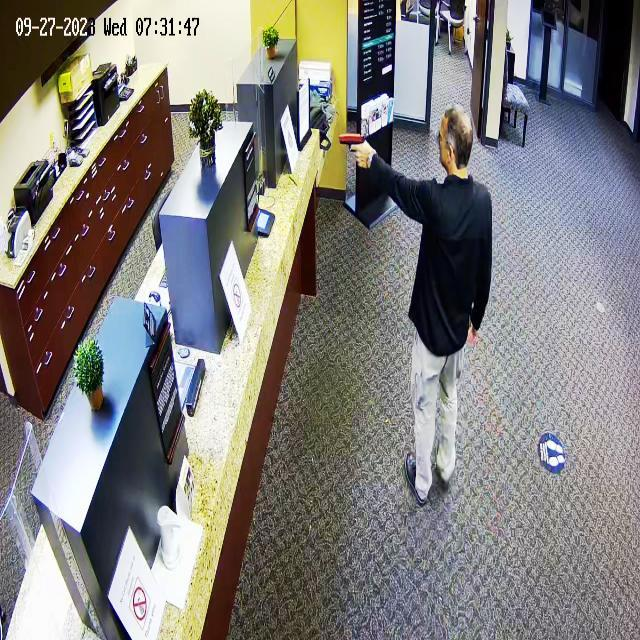Gun: (331, 123, 379, 167)
